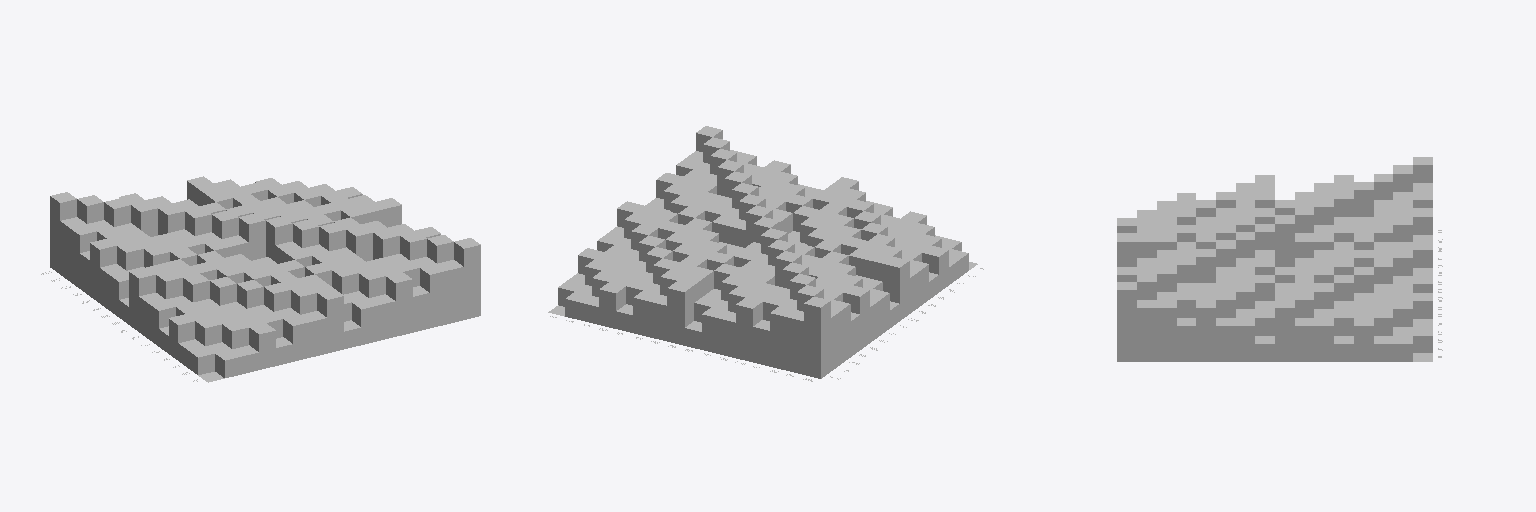
3 views of the same model, side by side, from view 1: azimuth 30°, elevation 25°; view 2: azimuth 150°, elevation 25°; view 3: azimuth 270°, elevation 25° (orthographic).
Parts seen in each view (by area): view 1: Object(16,16)[length_4], Object(8,16)[length_3], Object(12,16)[length_3], Object(14,16)[length_3], Object(1,1)[length_4], Object(15,16)[length_3], Object(1,5)[length_3], Object(1,9)[length_3], Object(8,8)[length_4], Object(10,16)[length_2], Object(4,16)[length_2], Object(6,16)[length_2] (+28 smaller); view 2: Object(1,1)[length_4], Object(9,1)[length_3], Object(5,1)[length_3], Object(1,9)[length_3], Object(3,1)[length_3], Object(2,1)[length_3], Object(13,1)[length_2], Object(1,5)[length_3], Object(11,1)[length_2], Object(7,1)[length_2], Object(1,13)[length_2], Object(6,1)[length_2] (+4 smaller); view 3: Object(16,16)[length_4], Object(16,8)[length_3], Object(16,12)[length_3], Object(16,14)[length_3], Object(16,15)[length_3], Object(8,8)[length_4], Object(16,4)[length_2], Object(16,6)[length_2], Object(16,11)[length_2], Object(16,7)[length_2], Object(16,10)[length_2], Object(16,13)[length_2] (+10 smaller).
Boxes of the visible parts, x1=… form: Object(16,16)[length_4]: x1=454, y1=238, x2=480, y2=319; Object(8,16)[length_3]: x1=317, y1=289, x2=343, y2=353; Object(12,16)[length_3]: x1=386, y1=272, x2=412, y2=336; Object(14,16)[length_3]: x1=420, y1=264, x2=446, y2=327; Object(1,1)[length_4]: x1=50, y1=192, x2=76, y2=273; Object(15,16)[length_3]: x1=438, y1=260, x2=463, y2=323; Object(1,5)[length_3]: x1=90, y1=239, x2=116, y2=302; Object(1,9)[length_3]: x1=129, y1=268, x2=155, y2=331; Object(8,8)[length_4]: x1=239, y1=213, x2=265, y2=260; Object(10,16)[length_2]: x1=352, y1=298, x2=378, y2=344; Object(4,16)[length_2]: x1=249, y1=323, x2=275, y2=369; Object(6,16)[length_2]: x1=283, y1=315, x2=309, y2=361; Object(1,1)[length_4]: x1=804, y1=297, x2=830, y2=378; Object(9,1)[length_3]: x1=667, y1=281, x2=693, y2=345; Object(5,1)[length_3]: x1=736, y1=298, x2=762, y2=361; Object(1,9)[length_3]: x1=883, y1=257, x2=909, y2=320; Object(3,1)[length_3]: x1=770, y1=306, x2=795, y2=370; Object(2,1)[length_3]: x1=787, y1=310, x2=803, y2=374; Object(13,1)[length_2]: x1=599, y1=282, x2=625, y2=328; Object(1,5)[length_3]: x1=843, y1=285, x2=869, y2=349; Object(11,1)[length_2]: x1=633, y1=291, x2=659, y2=336; Object(7,1)[length_2]: x1=702, y1=307, x2=727, y2=353; Object(1,13)[length_2]: x1=922, y1=246, x2=948, y2=291; Object(6,1)[length_2]: x1=719, y1=311, x2=735, y2=357; Object(16,16)[length_4]: x1=1117, y1=282, x2=1136, y2=361; Object(16,8)[length_3]: x1=1275, y1=300, x2=1294, y2=361; Object(16,12)[length_3]: x1=1196, y1=300, x2=1215, y2=361; Object(16,14)[length_3]: x1=1157, y1=300, x2=1176, y2=361; Object(16,15)[length_3]: x1=1137, y1=300, x2=1156, y2=361; Object(8,8)[length_4]: x1=1275, y1=215, x2=1294, y2=266; Object(16,4)[length_2]: x1=1354, y1=318, x2=1373, y2=361; Object(16,6)[length_2]: x1=1314, y1=318, x2=1333, y2=361; Object(16,11)[length_2]: x1=1216, y1=318, x2=1235, y2=361; Object(16,7)[length_2]: x1=1295, y1=318, x2=1313, y2=361; Object(16,10)[length_2]: x1=1236, y1=318, x2=1254, y2=361; Object(16,13)[length_2]: x1=1177, y1=318, x2=1195, y2=361.
Size of the model in its own units: 16.84 by 4 by 16.5.